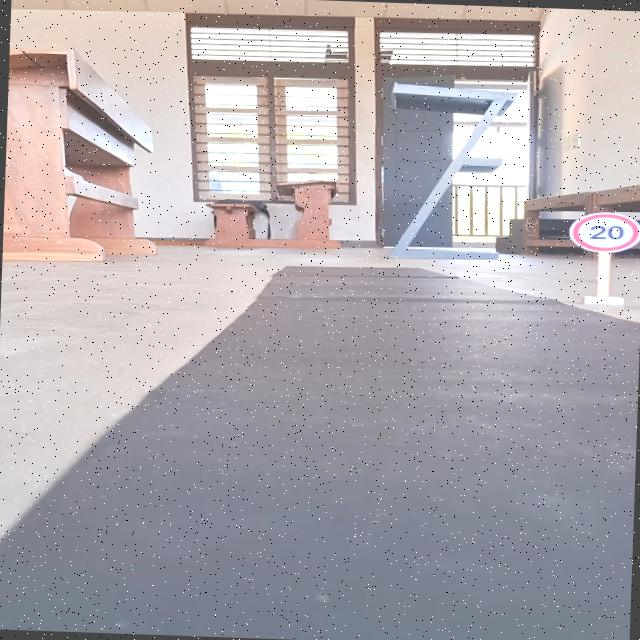Speed20: (565, 208, 640, 255)
